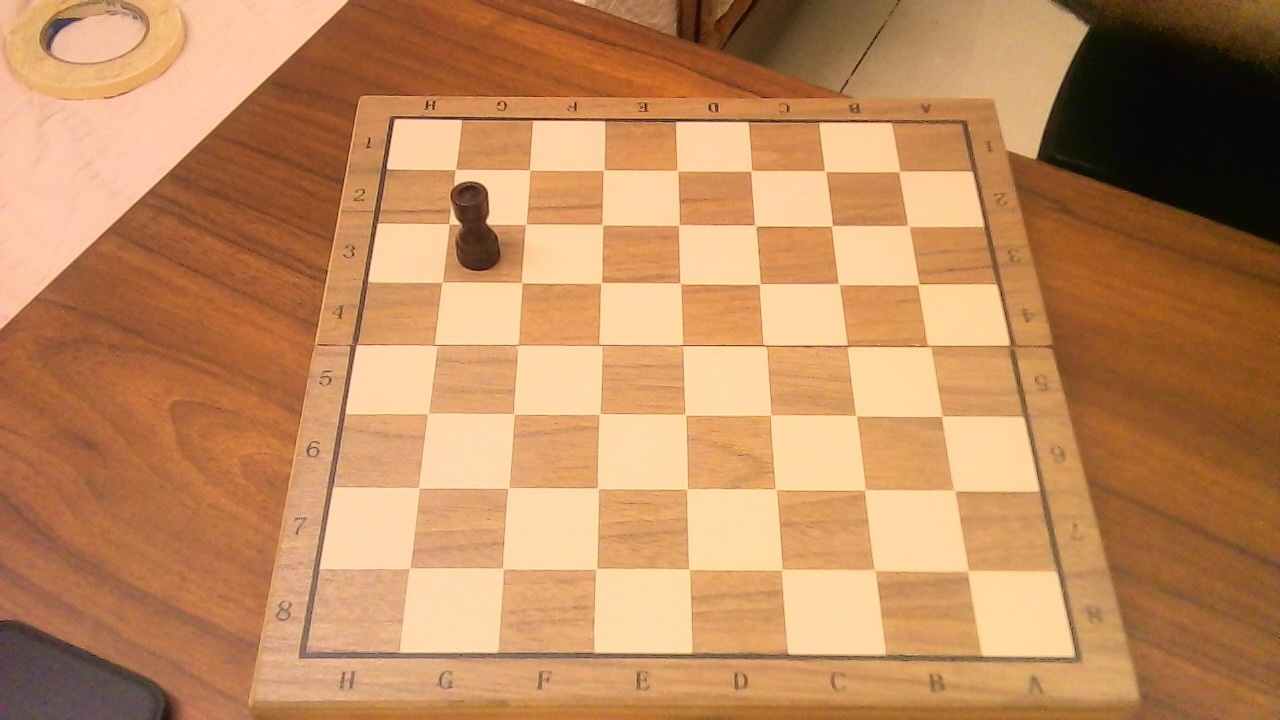r: (448, 169, 511, 275)
